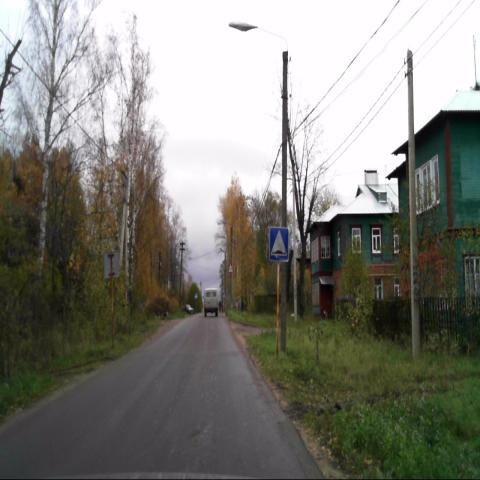5_20: (269, 226, 289, 262)
